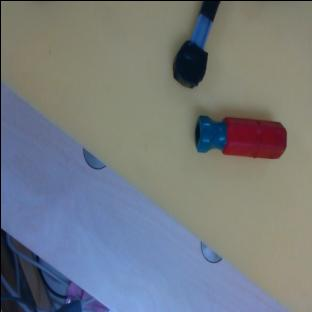part_2_good: (193, 115, 287, 158)
